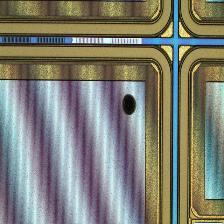PARTICLE: (116, 91, 144, 119)
